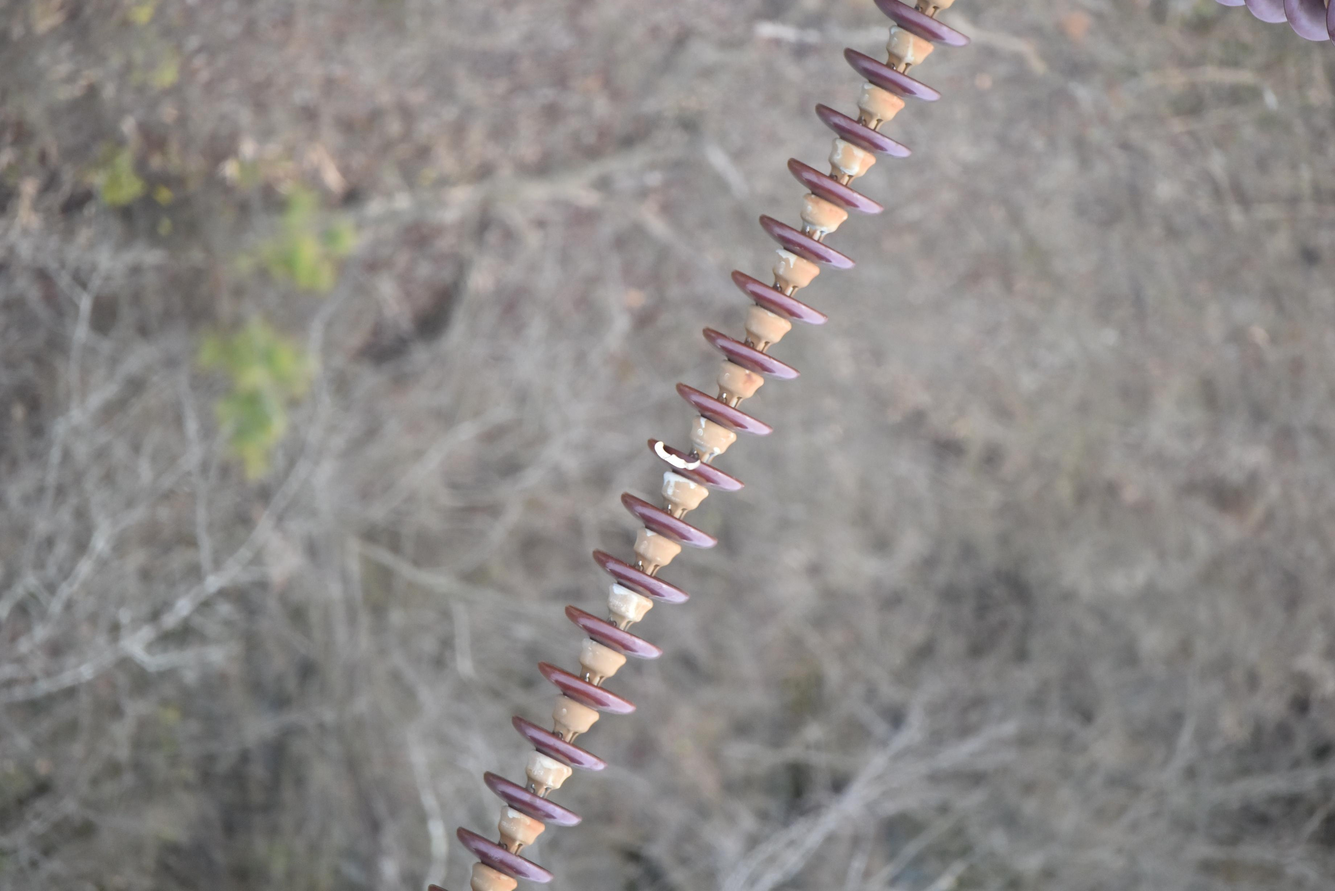damaged: (648, 434, 711, 477)
insulator: (431, 0, 968, 891), (1213, 0, 1335, 45)
